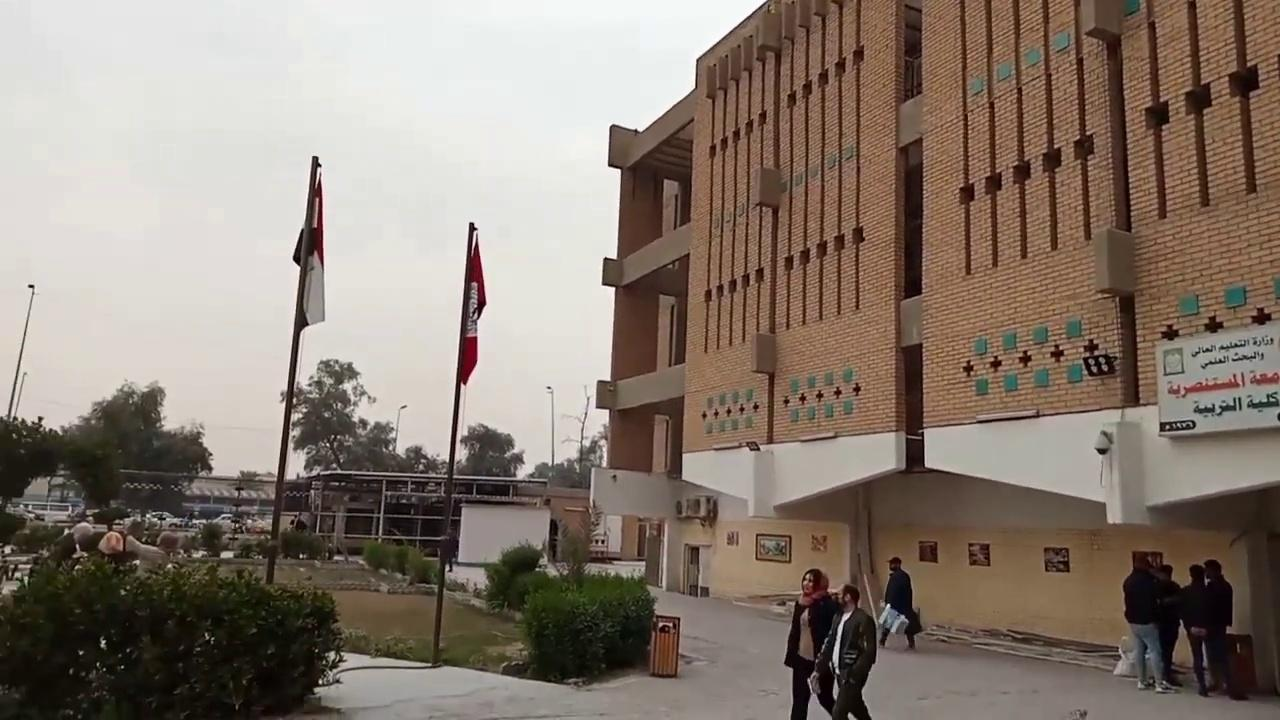person: (812, 584, 877, 719), (783, 568, 840, 719), (1122, 552, 1176, 693), (1202, 558, 1234, 695), (1148, 563, 1183, 687), (1179, 563, 1211, 697), (877, 556, 918, 650), (438, 528, 458, 572)
tree: (1, 536, 345, 718), (480, 498, 657, 682), (62, 377, 213, 515), (278, 357, 378, 474), (0, 413, 60, 512), (62, 422, 124, 510), (481, 539, 548, 613), (553, 498, 607, 586), (456, 422, 524, 478), (348, 418, 398, 472), (561, 434, 603, 473), (278, 525, 324, 560), (398, 443, 437, 473), (198, 520, 225, 556)
